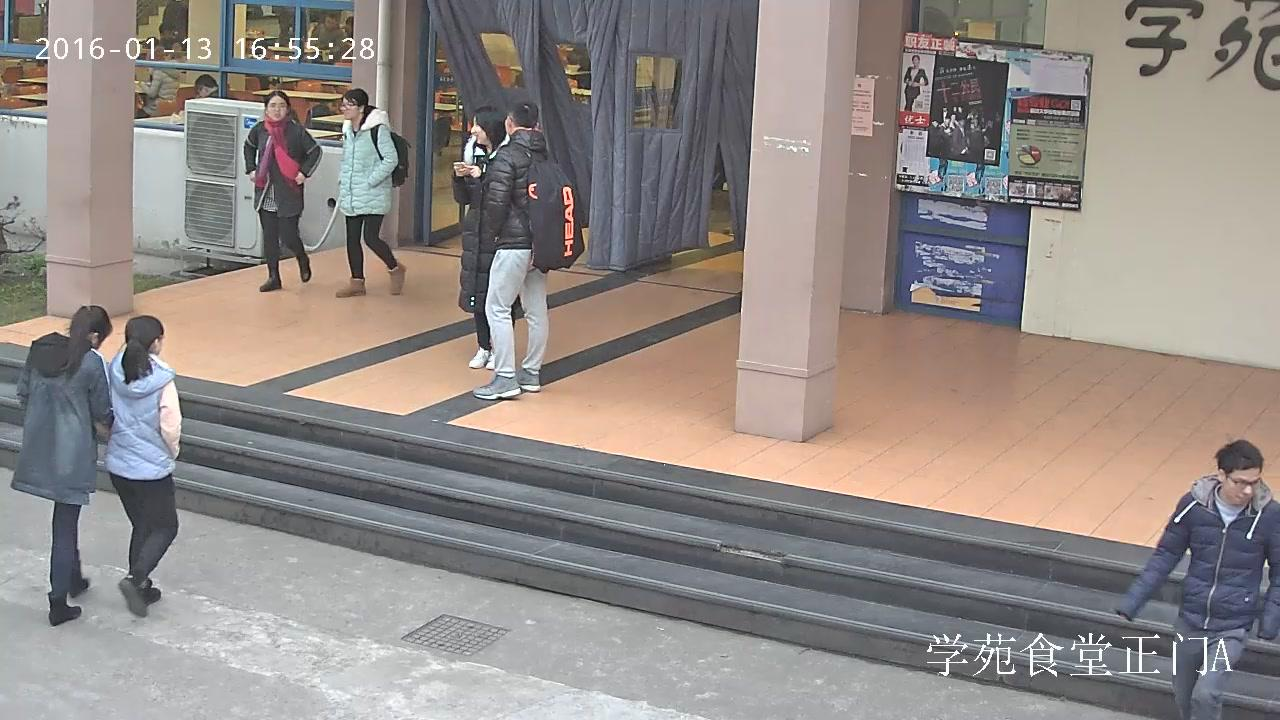person: (1116, 439, 1280, 720), (472, 100, 583, 400), (11, 306, 112, 625), (95, 315, 181, 616), (451, 107, 523, 370), (244, 90, 322, 290), (335, 87, 407, 297), (136, 47, 181, 118), (313, 11, 341, 64), (903, 55, 928, 111), (159, 0, 187, 50)
